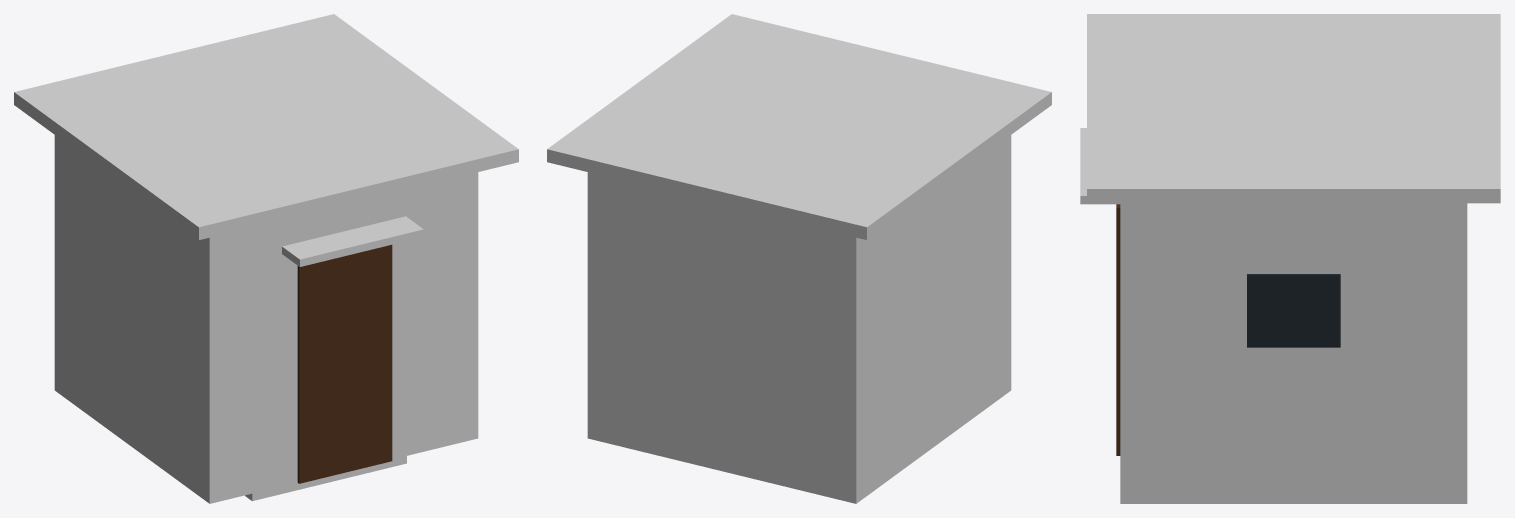
The model's file is buildparts.glb.
3 views of the same model, side by side, from view 1: azimuth 30°, elevation 25°; view 2: azimuth 150°, elevation 25°; view 3: azimuth 270°, elevation 25° (orthographic). The views are drawn at different scales.
Visible parts, largest first — view 1: mumty, balc; view 2: mumty; view 3: mumty.
Boxes of the visible parts, left/top/right/bottom form: mumty: left=14, top=14, right=518, bottom=503; balc: left=245, top=456, right=406, bottom=501; mumty: left=547, top=14, right=1051, bottom=503; mumty: left=1080, top=14, right=1500, bottom=503.
Size of the model in its own units: 3.1 by 3.02 by 3.15.
